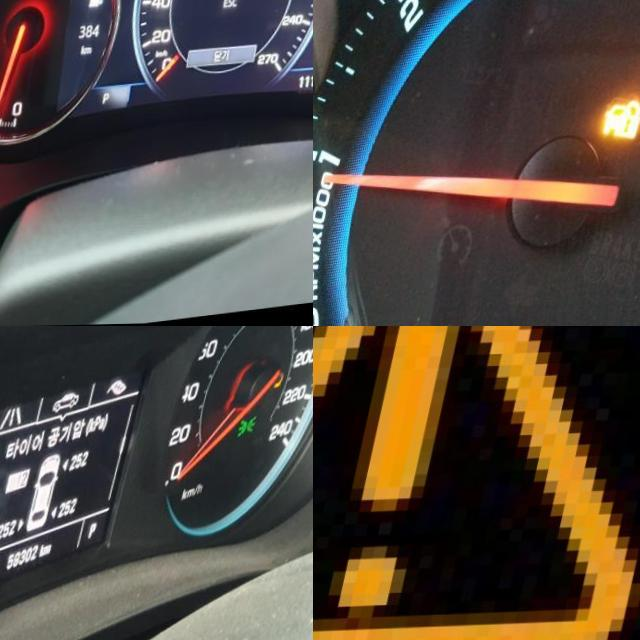Central Warning lamp: (313, 326, 640, 640)
SideLamp: (249, 416, 270, 439)
